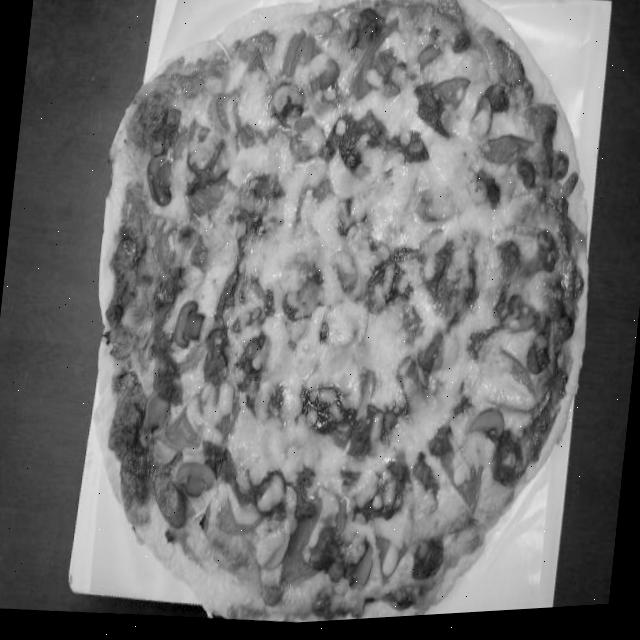汉堡快餐: (47, 0, 627, 638)
